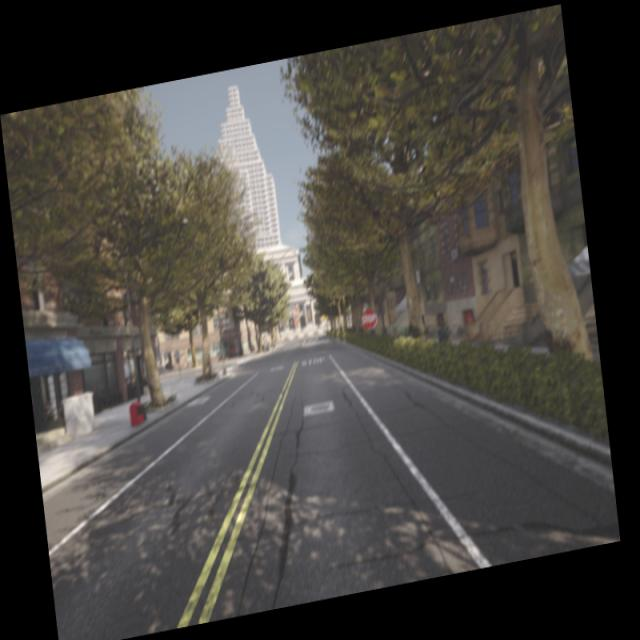stop sign: (359, 304, 379, 332)
